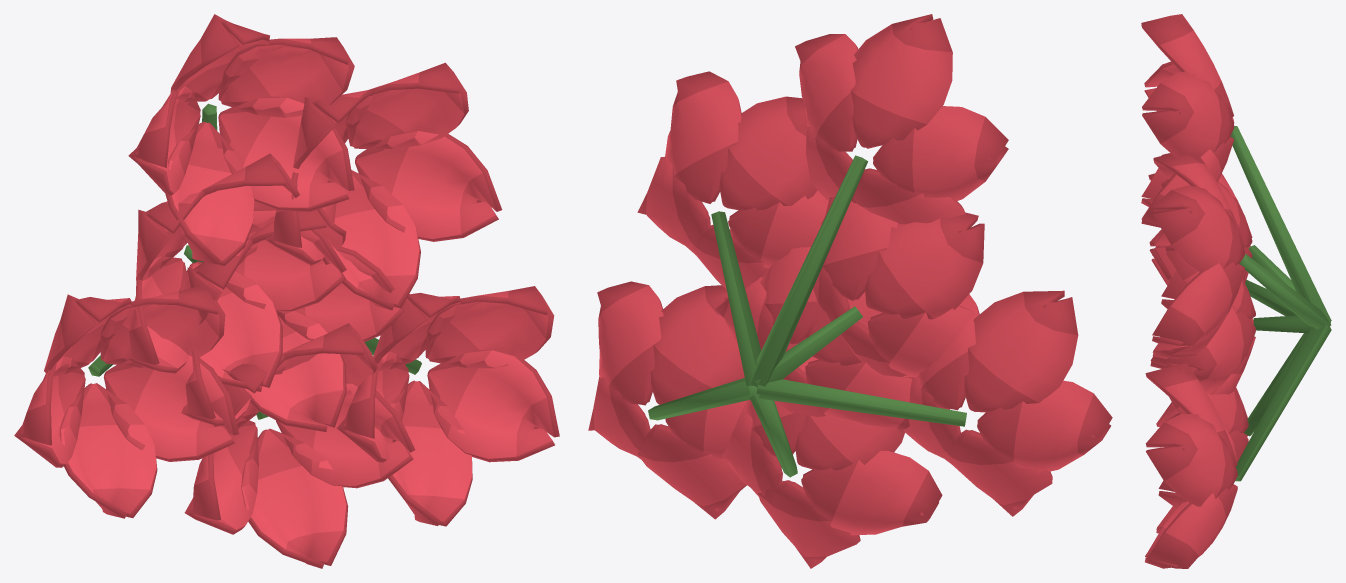
File: garden-geranium-bloom-head-0.glb
3 views of the same model, side by side, from view 1: azimuth 30°, elevation 25°; view 2: azimuth 150°, elevation 25°; view 3: azimuth 270°, elevation 25° (orthographic). The views are drawn at different scales.
Parts seen in each view (by area): view 1: geranium-bloom-head-0; view 2: geranium-bloom-head-0; view 3: geranium-bloom-head-0.
Part boxes in pixels (x1=…): geranium-bloom-head-0: x1=14, y1=14, x2=559, y2=568; geranium-bloom-head-0: x1=588, y1=14, x2=1112, y2=568; geranium-bloom-head-0: x1=1141, y1=14, x2=1331, y2=568.
Size of the model in its own units: 0.1414 by 0.1483 by 0.0526.
